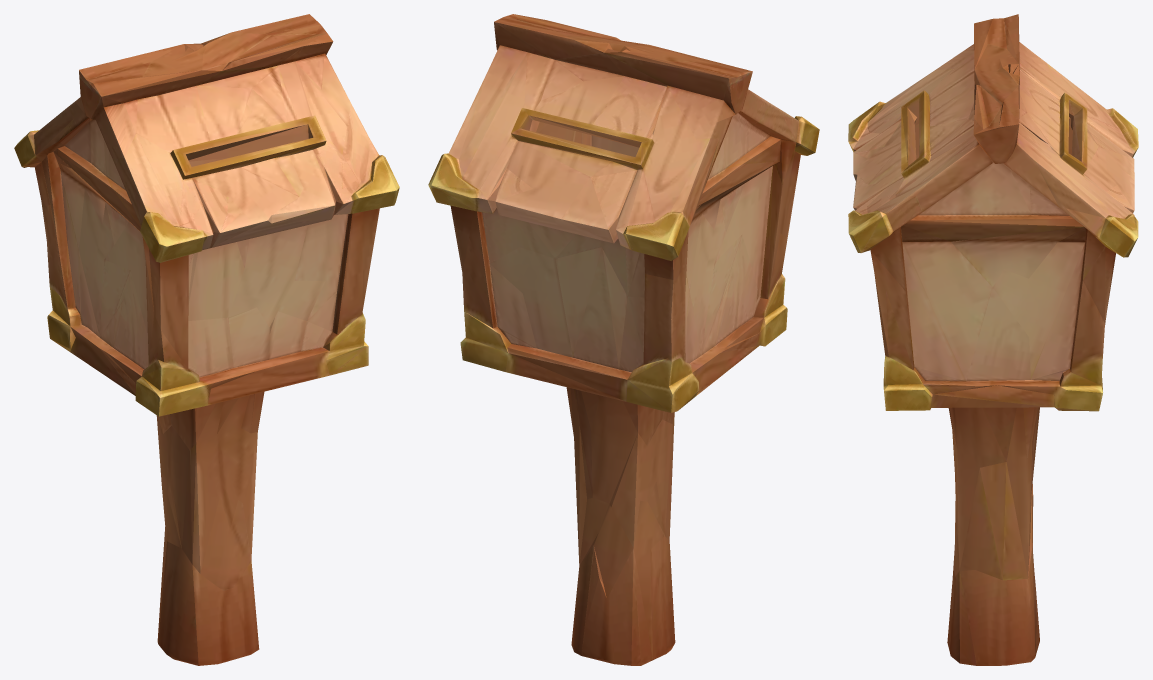
Rendered from collection-box.glb.
3 views of the same model, side by side, from view 1: azimuth 30°, elevation 25°; view 2: azimuth 150°, elevation 25°; view 3: azimuth 270°, elevation 25° (orthographic). The views are drawn at different scales.
Bounding box in the file's own units: 0.8073 × 1.9 × 0.8639.
Materials: 1 (1 with a texture image).
